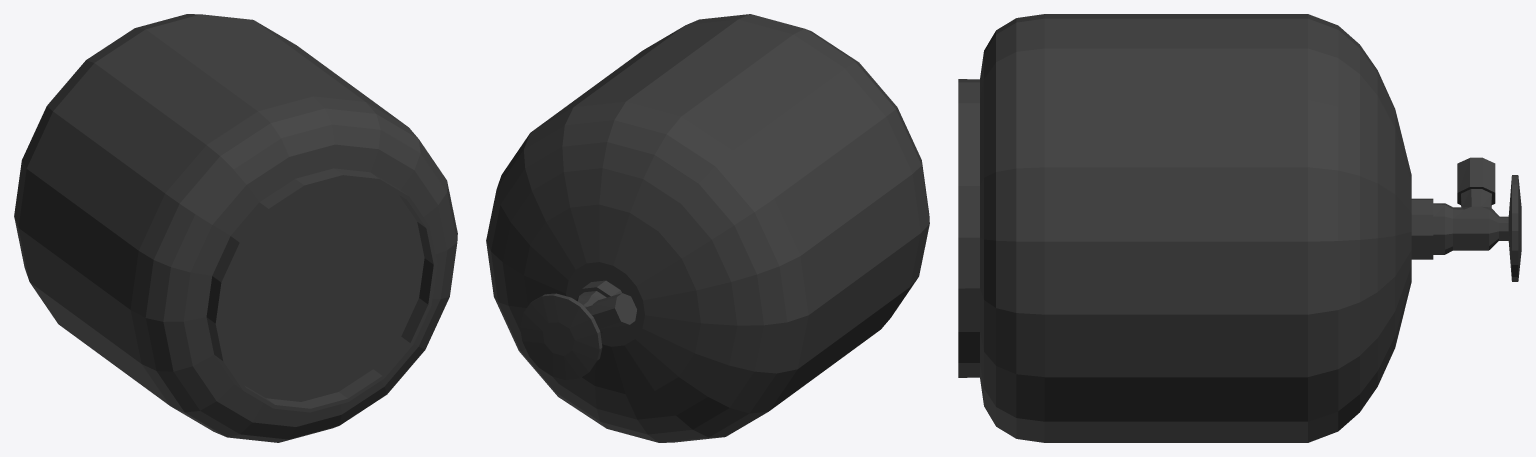
3 renders of one model, left to right at view 1: azimuth 30°, elevation 25°; view 2: azimuth 150°, elevation 25°; view 3: azimuth 270°, elevation 25°, orthographic. The views are drawn at different scales.
Parts seen in each view (by area): view 1: gaz.obj; view 2: gaz.obj; view 3: gaz.obj.
Part boxes in pixels (x1,y1,x2,y2): gaz.obj: (14, 14, 457, 442); gaz.obj: (486, 14, 929, 442); gaz.obj: (958, 14, 1521, 442).
Bounding box in the file's own units: 99.97 × 98.89 × 130.
Materials: 1 (1 with a texture image).
